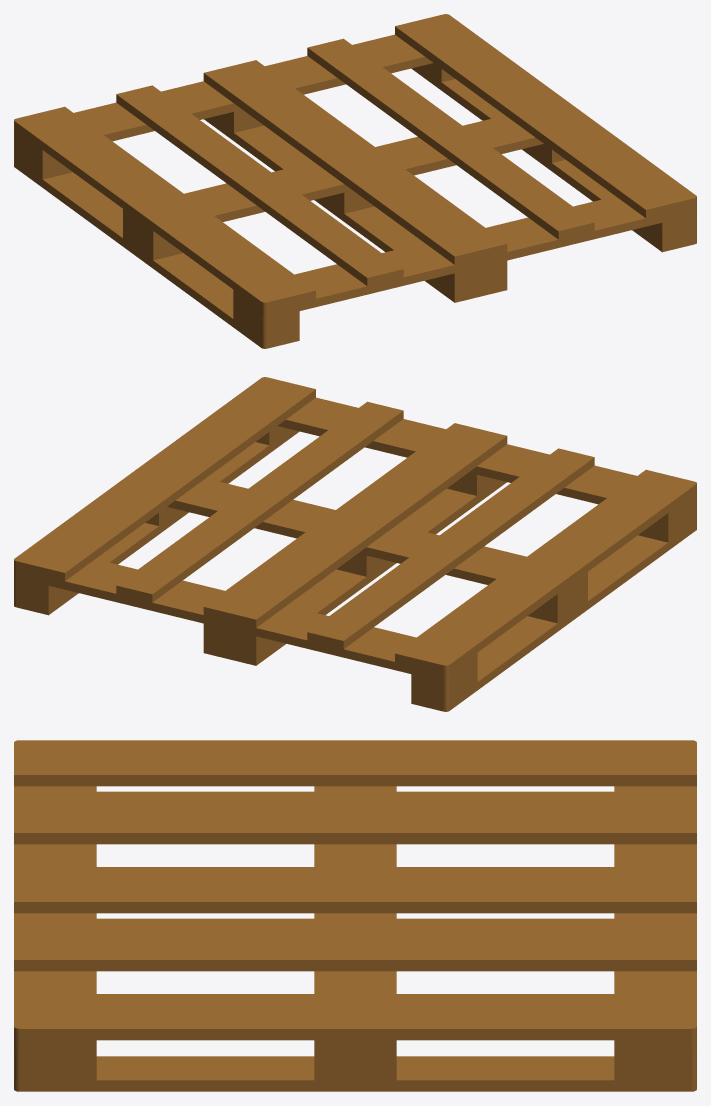
Rendered from europallet.dae.
The picture shows the model from 3 angles, top to bottom: view 1: azimuth 30°, elevation 25°; view 2: azimuth 150°, elevation 25°; view 3: azimuth 270°, elevation 25°; orthographic projection. The views are drawn at different scales.
Visible parts, largest first — view 1: Europallet; view 2: Europallet; view 3: Europallet.
Part boxes in pixels (x1,y1,x2,y2): Europallet: (14,14,696,348); Europallet: (14,377,696,711); Europallet: (14,740,696,1091).
Size of the model in its own units: 1200 by 1200 by 122.
